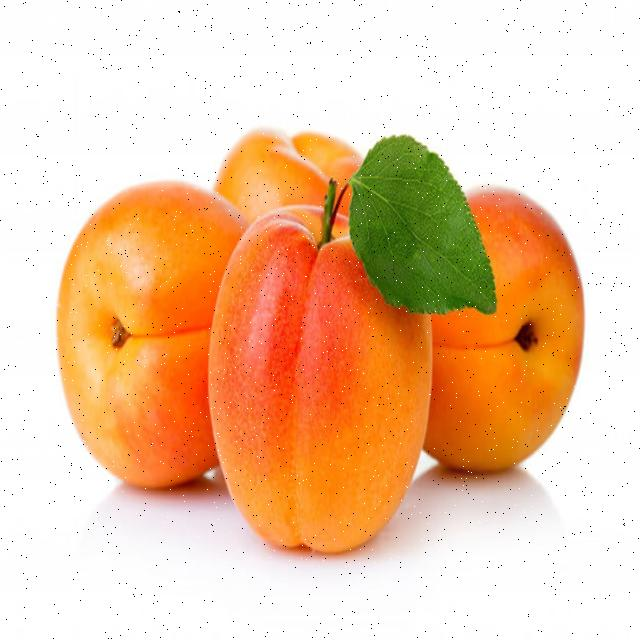kayisi: (53, 144, 244, 507), (229, 218, 420, 533), (425, 176, 576, 475), (220, 114, 360, 242)
yaprak: (345, 135, 492, 336)
